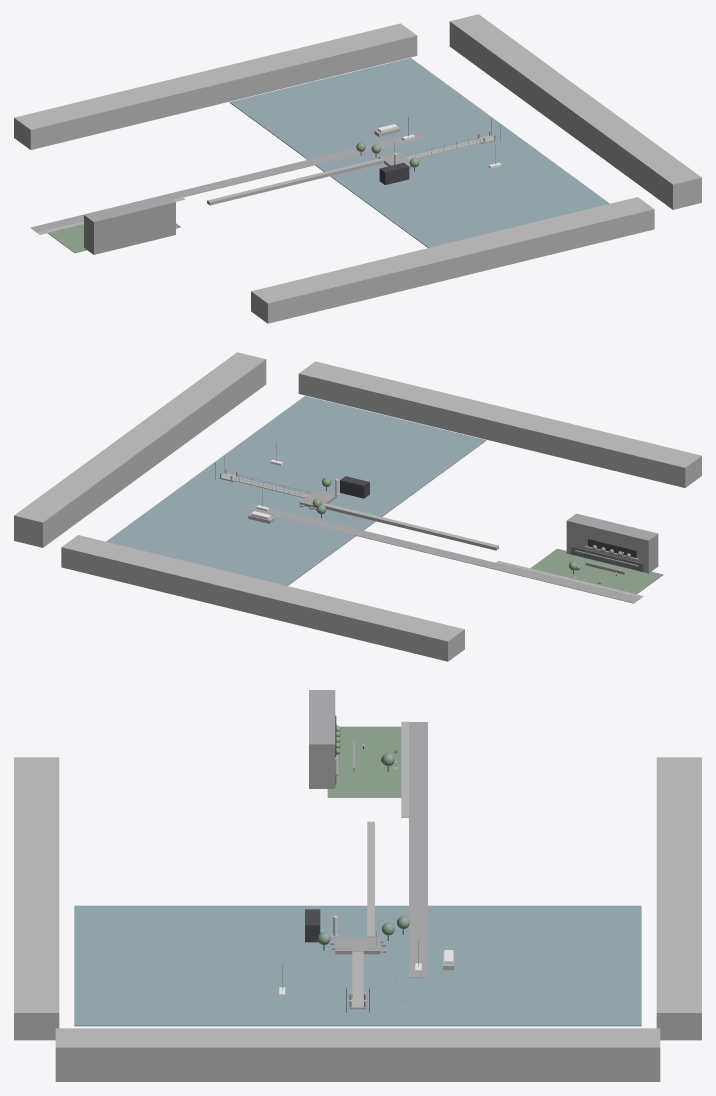
The picture shows the model from 3 angles, top to bottom: view 1: azimuth 30°, elevation 25°; view 2: azimuth 150°, elevation 25°; view 3: azimuth 270°, elevation 25°; orthographic projection. The views are drawn at different scales.
Visible parts, largest first — view 1: S02_water, S02_mtn_S, S02_mtn_N, S02_mtn_E, S01_facade, CONN_road, CONN_shorewall, S01_lawn, S02_club; view 2: S02_water, S02_mtn_N, S02_mtn_S, S02_mtn_E, CONN_road, S01_facade, S01_lawn, CONN_shorewall, S01_glass_low, S02_club, S01_walk; view 3: S02_water, S02_mtn_E, S02_mtn_N, S02_mtn_S, CONN_road, S01_lawn, S01_facade, CONN_shorewall, S02_quay, S01_walk.
Part boxes in pixels (box(x1,y1,x2,y2)): S02_water: box(229, 58, 609, 247); S02_mtn_S: box(251, 197, 654, 323); S02_mtn_N: box(14, 23, 417, 149); S02_mtn_E: box(449, 14, 701, 209); S01_facade: box(84, 195, 175, 254); CONN_road: box(30, 133, 423, 232); CONN_shorewall: box(207, 158, 383, 205); S01_lawn: box(47, 223, 180, 253); S02_club: box(379, 162, 409, 185); S02_water: box(106, 396, 486, 585); S02_mtn_N: box(61, 535, 464, 661); S02_mtn_S: box(298, 361, 701, 487); S02_mtn_E: box(14, 352, 266, 547); CONN_road: box(247, 504, 640, 603); S01_facade: box(566, 513, 658, 573); S01_lawn: box(530, 548, 663, 594); CONN_shorewall: box(323, 503, 498, 550); S01_glass_low: box(571, 546, 643, 571); S02_club: box(340, 476, 369, 498); S01_walk: box(496, 560, 643, 597); S02_water: box(74, 905, 641, 1026); S02_mtn_E: box(55, 1028, 660, 1081); S02_mtn_N: box(656, 757, 701, 1040); S02_mtn_S: box(14, 757, 59, 1040); CONN_road: box(409, 722, 427, 977); S01_lawn: box(327, 726, 401, 797); S01_facade: box(309, 690, 335, 788); CONN_shorewall: box(367, 821, 374, 937); S02_quay: box(335, 937, 380, 954); S01_walk: box(401, 721, 408, 817).
Size of the model in its own units: 221 by 15 by 182.
